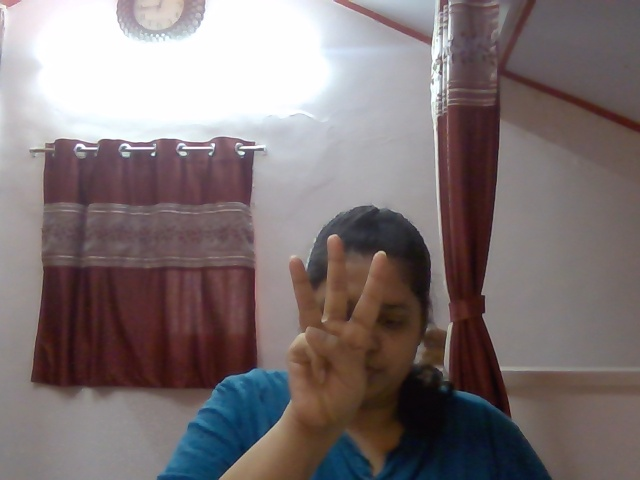w: (257, 230, 401, 424)
